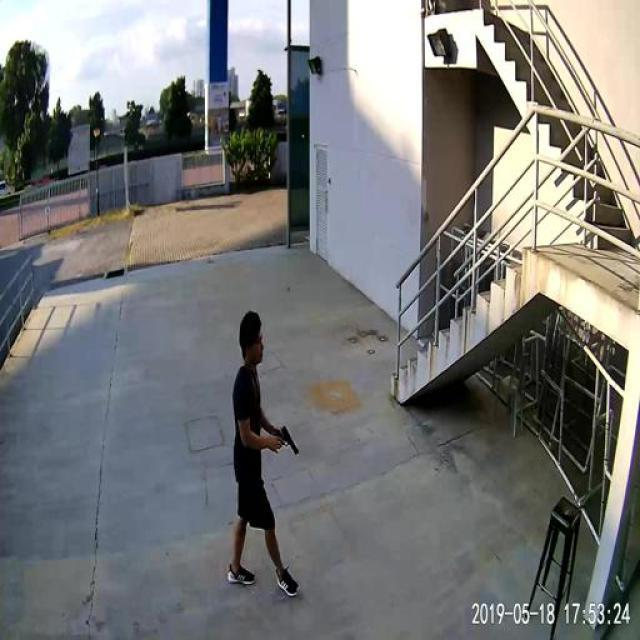Gun: (270, 420, 309, 465)
